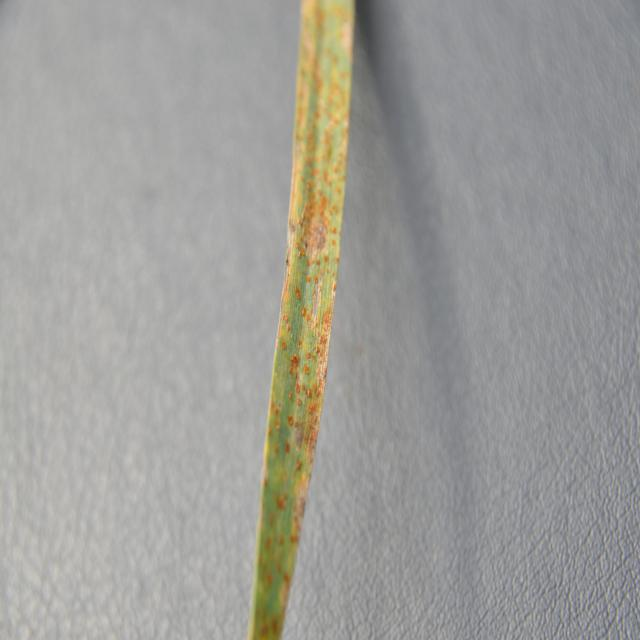wheat-septoria: (247, 0, 357, 640)
